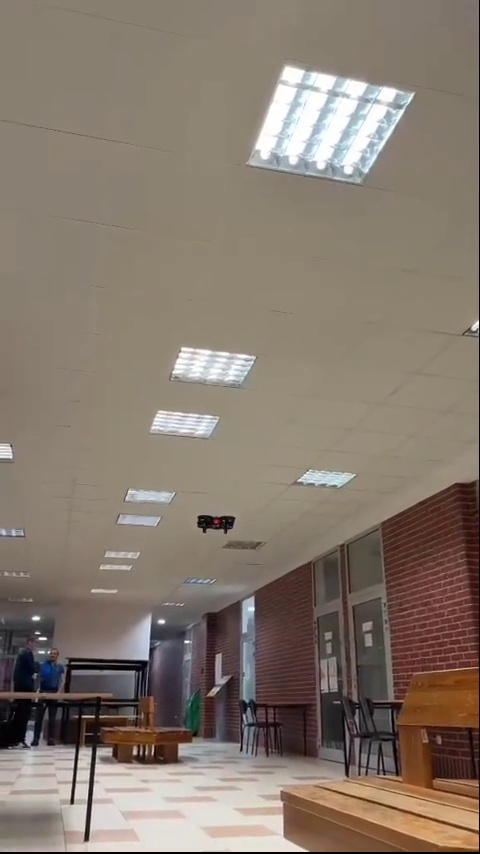drone: (191, 512, 236, 540)
no vest: (35, 643, 62, 752), (14, 638, 32, 740)
